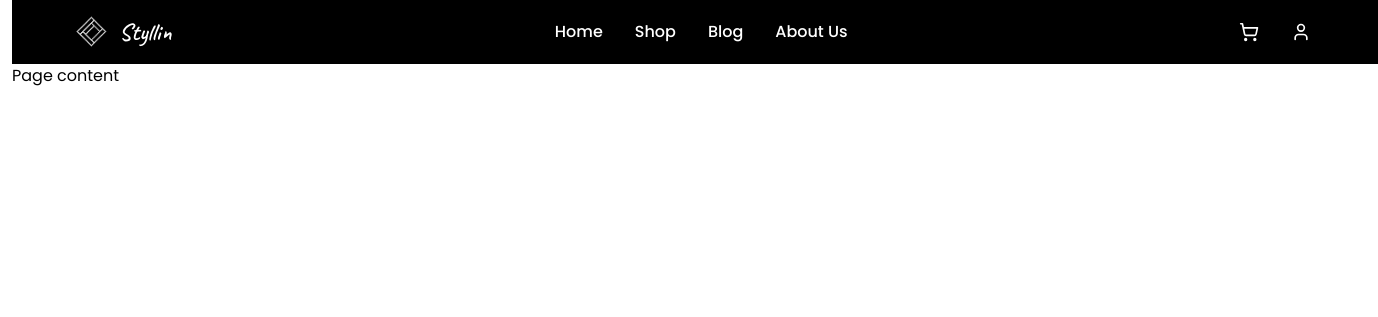
it: closes the account menu after an outside pointer event
Click the button named "Open account menu": coordinates (1301, 32) [1283,14,1319,50]
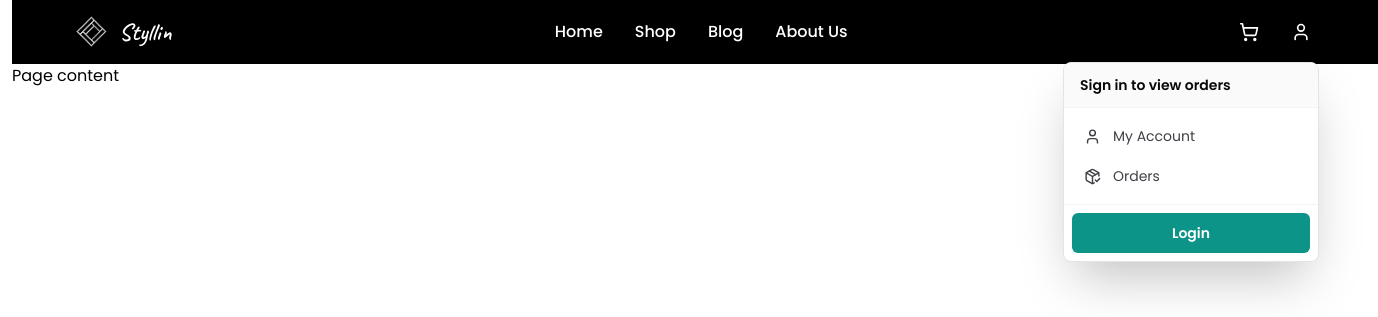
expect the text "Sign in to view orders" is shown: met, box [1080,75,1231,95]
Press the mouse on the text with test id "page-content": coordinates (66, 76) [12,64,119,87]
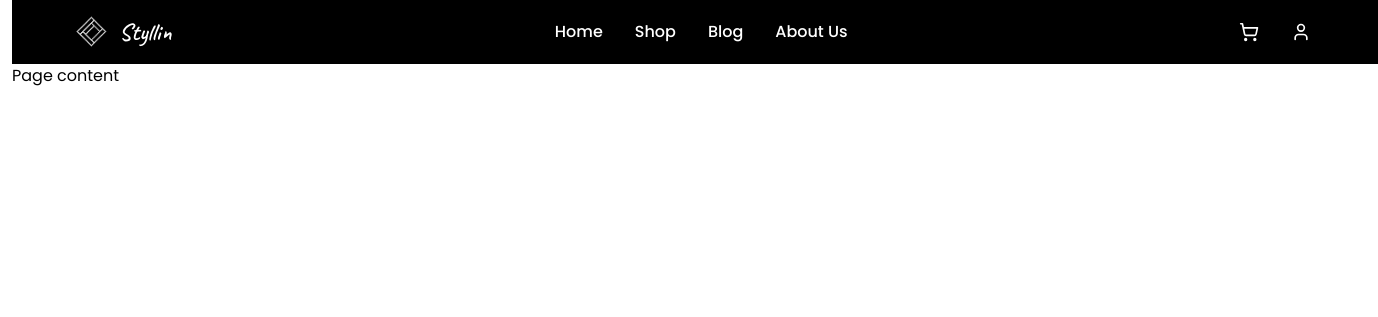
expect the text "Sign in to view orders" is gone: met
